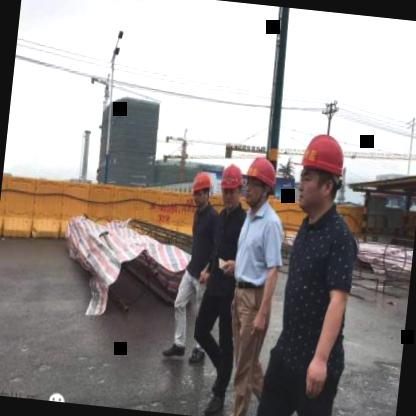helmet: (290, 128, 348, 220), (238, 152, 276, 208), (190, 167, 218, 215), (217, 160, 244, 206)
